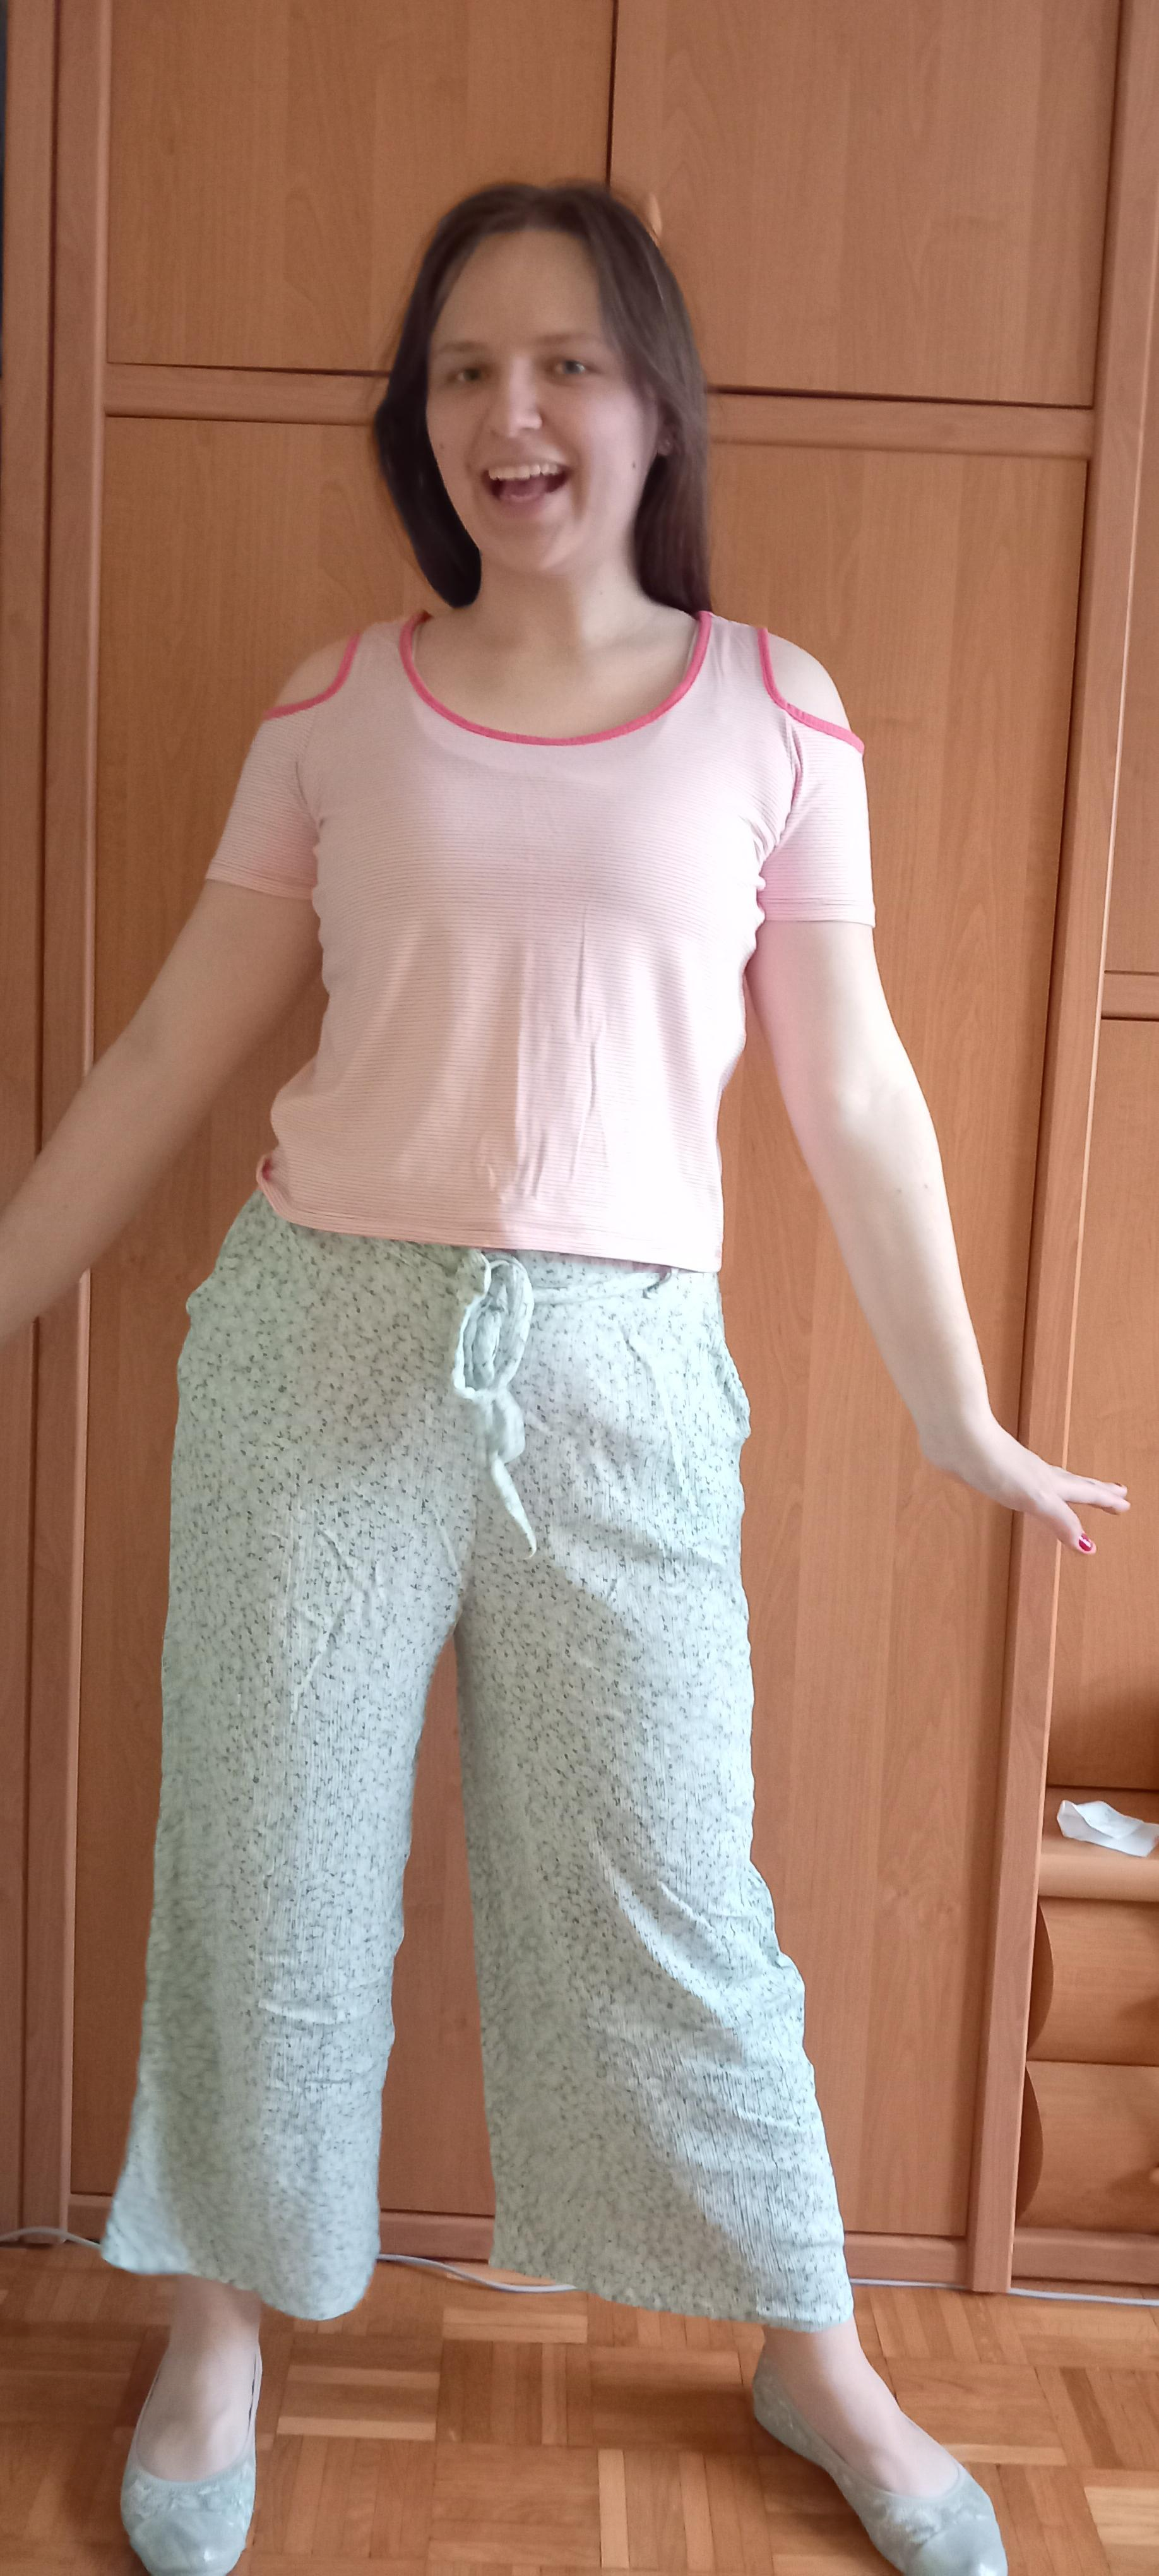Tshirt: (197, 608, 877, 1275)
pants: (98, 1189, 859, 2328)
